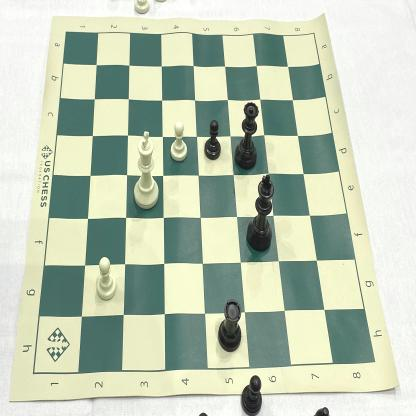bishop: (167, 120, 190, 163)
black-king: (244, 172, 276, 254)
black-pawn: (200, 116, 223, 162)
black-queen: (232, 99, 261, 176)
black-rook: (217, 296, 244, 354)
white-king: (128, 128, 161, 213)
white-pawn: (92, 254, 120, 302)
